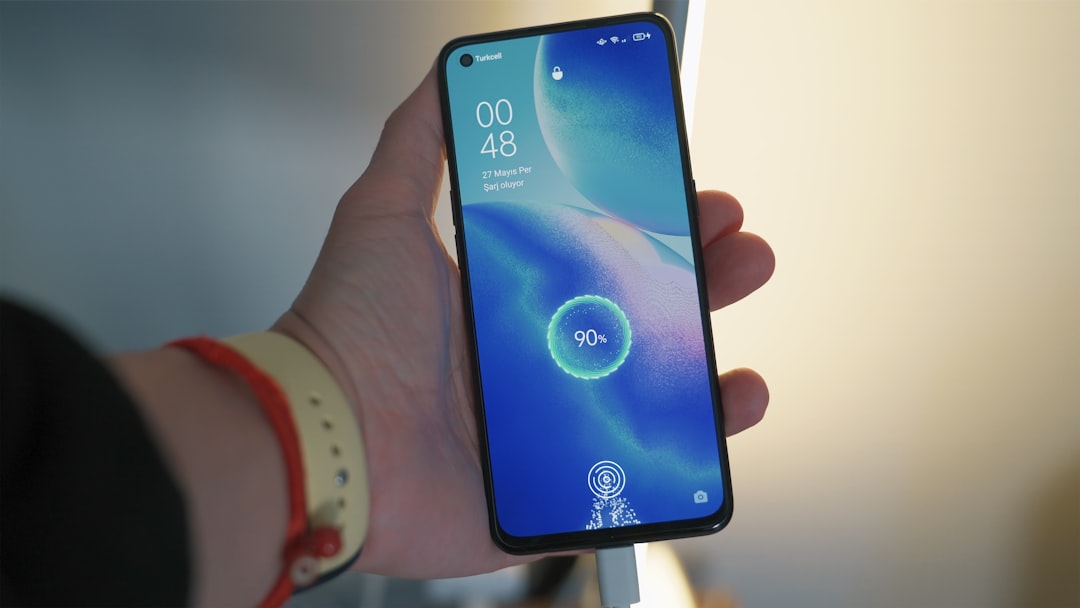phone: (437, 11, 735, 558)
